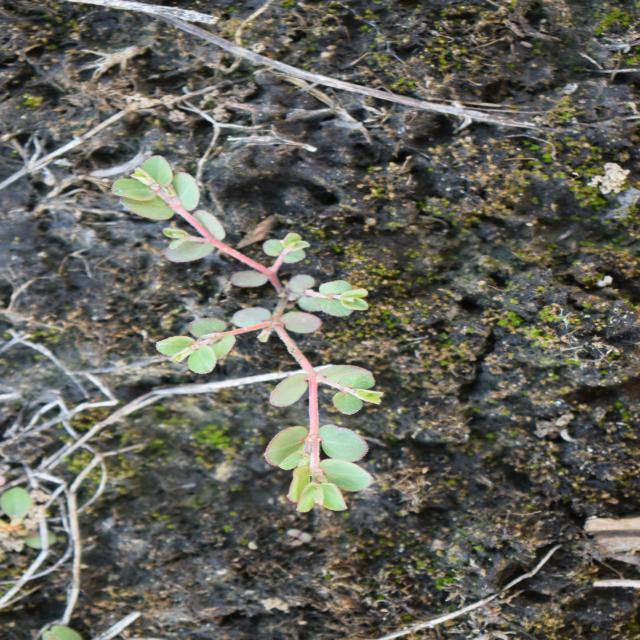SpottedSpurge: (106, 151, 389, 516)
